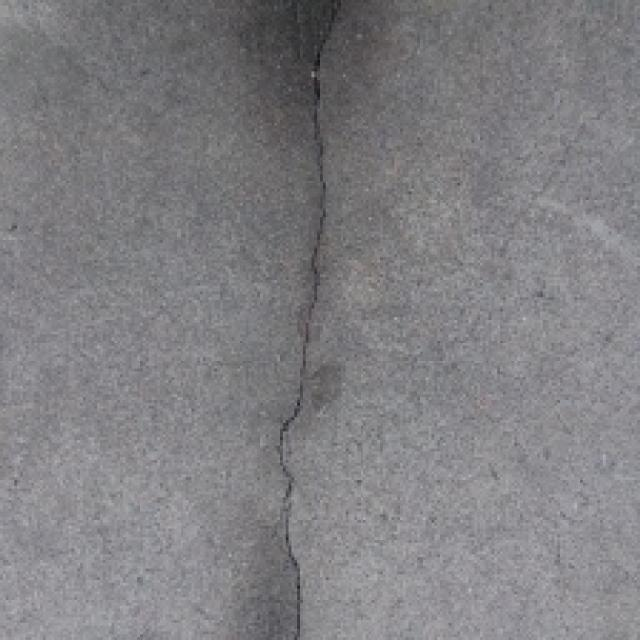crack: (240, 0, 368, 640)
